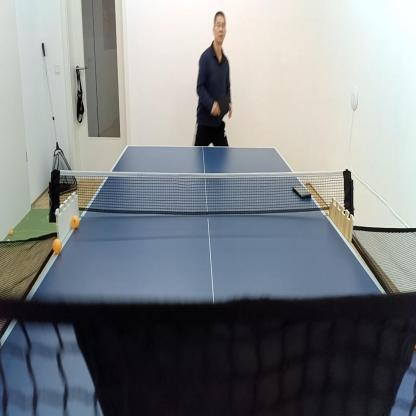Ball: (53, 238, 62, 254), (70, 214, 80, 228), (10, 229, 13, 234), (7, 240, 10, 244)
